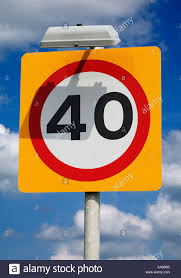Speed_limit_40km: (31, 60, 150, 181)
